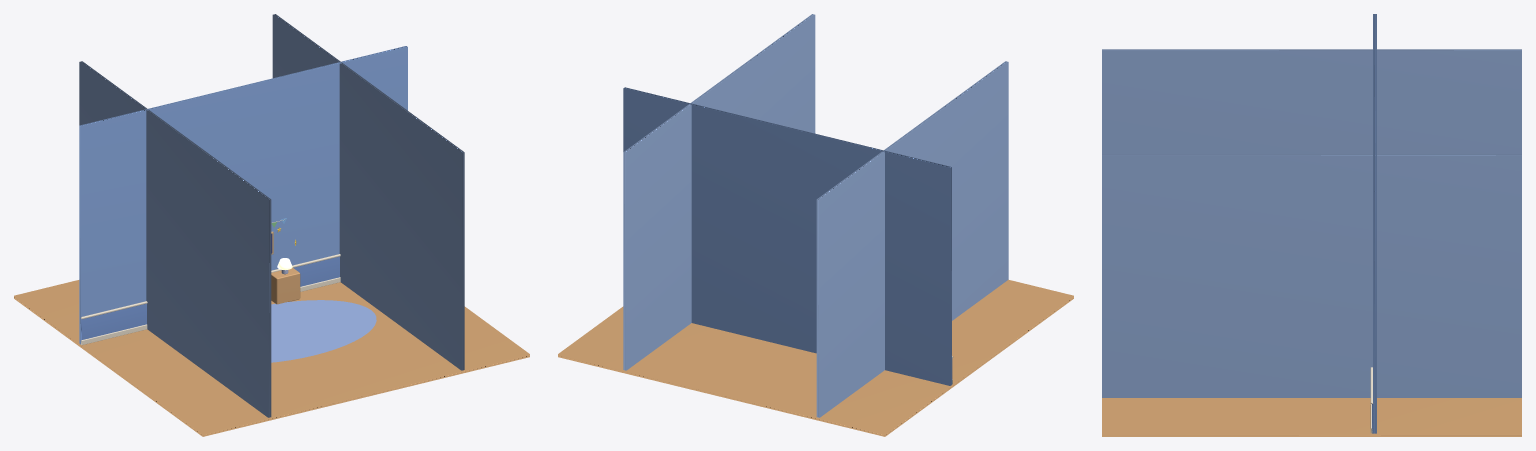
File: room.glb
3 views of the same model, side by side, from view 1: azimuth 30°, elevation 25°; view 2: azimuth 150°, elevation 25°; view 3: azimuth 270°, elevation 25° (orthographic). The views are drawn at different scales.
Parts seen in each view (by area): view 1: wall_back, wall_right, wall_left, floor, rug, wall_back_low, drawer, skirting; view 2: wall_back, wall_left, floor, wall_right; view 3: wall_right, wall_left, floor, wall_back.
Boxes of the visible parts, bbox=[...] form: wall_back: bbox=[79, 46, 407, 344]; wall_right: bbox=[272, 14, 464, 370]; wall_left: bbox=[79, 61, 271, 417]; floor: bbox=[14, 280, 529, 436]; rug: bbox=[271, 300, 376, 362]; wall_back_low: bbox=[81, 256, 339, 340]; drawer: bbox=[271, 268, 300, 304]; skirting: bbox=[81, 277, 340, 345]; wall_back: bbox=[623, 87, 951, 385]; wall_left: bbox=[816, 61, 1008, 417]; floor: bbox=[558, 279, 1073, 436]; wall_right: bbox=[623, 14, 815, 370]; wall_right: bbox=[1102, 154, 1521, 397]; wall_left: bbox=[1102, 49, 1521, 154]; floor: bbox=[1102, 398, 1521, 436]; wall_back: bbox=[1373, 14, 1376, 433].
Bounding box in the file's own units: 22 × 14.2 × 22.
